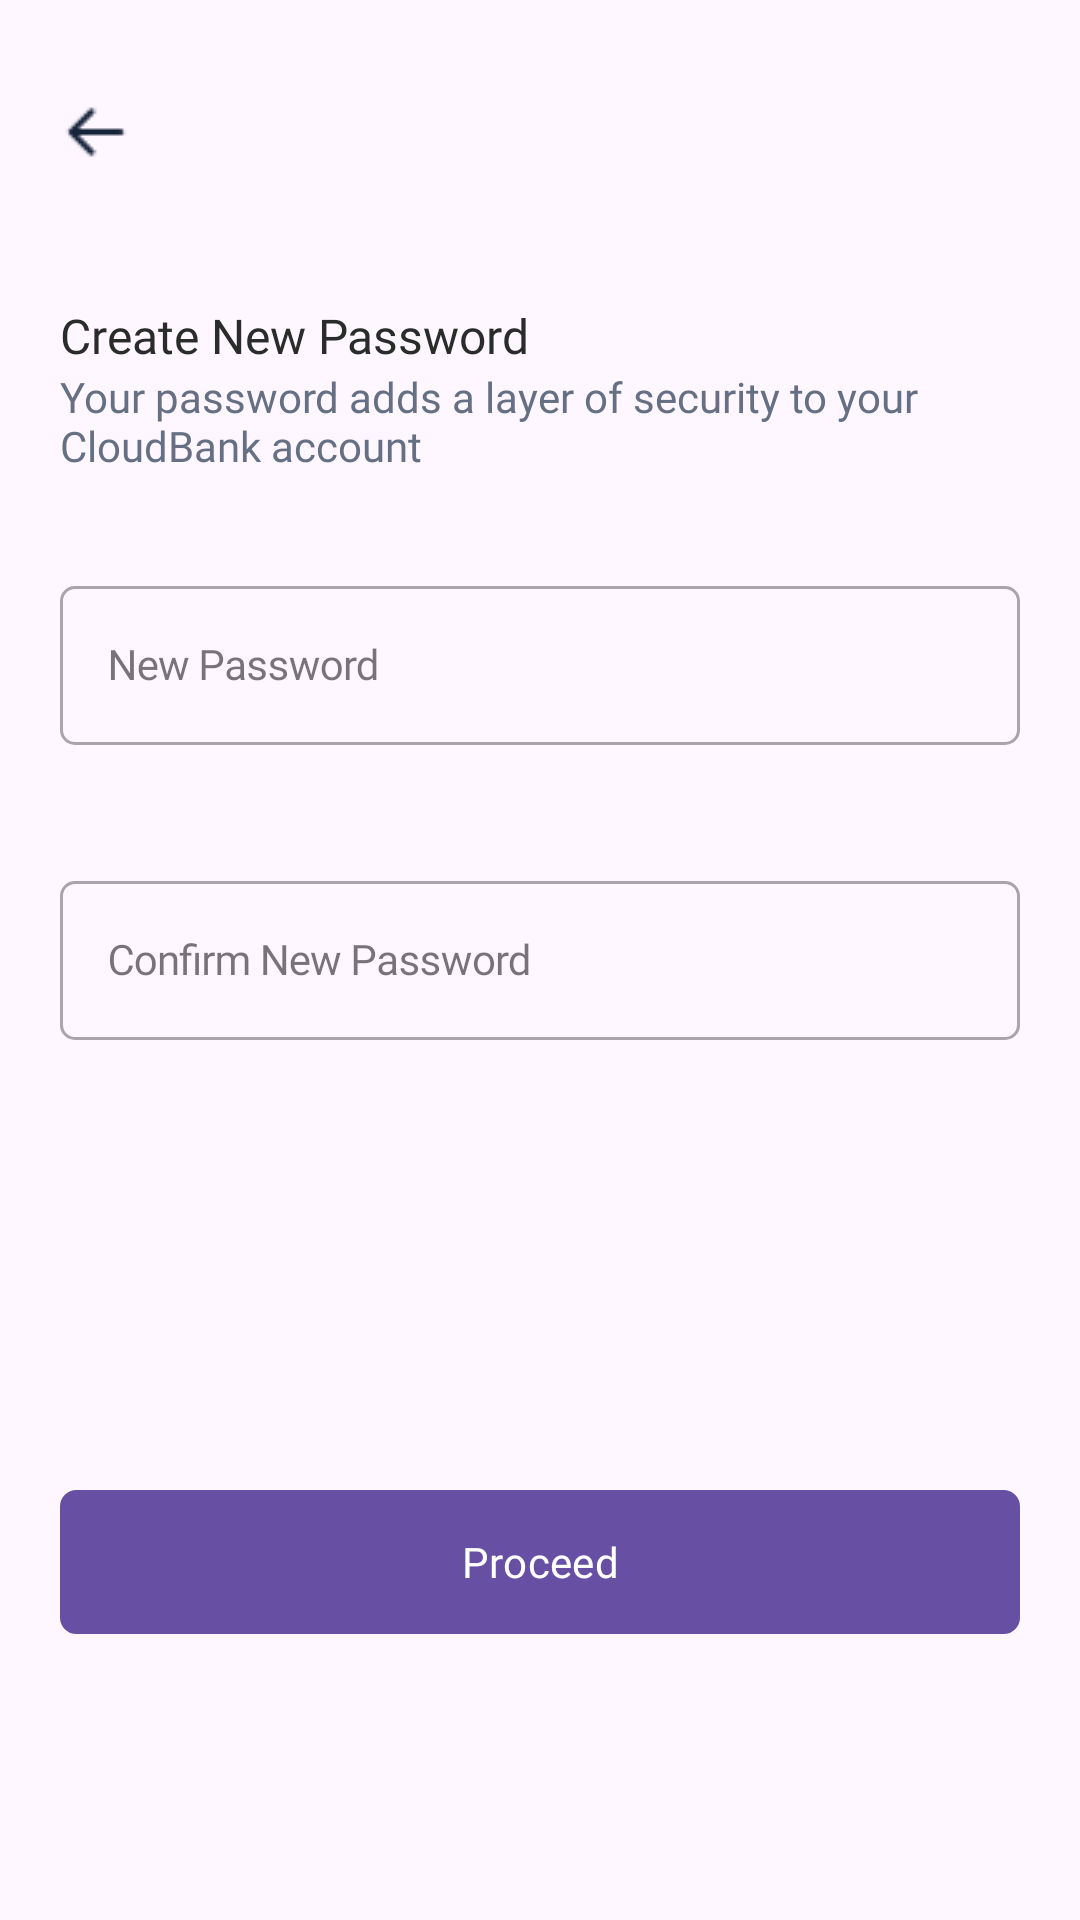

Named icons in this screenshot (1080×1920) and their centers, point (x, y):
arrowleft: point (96, 132)
